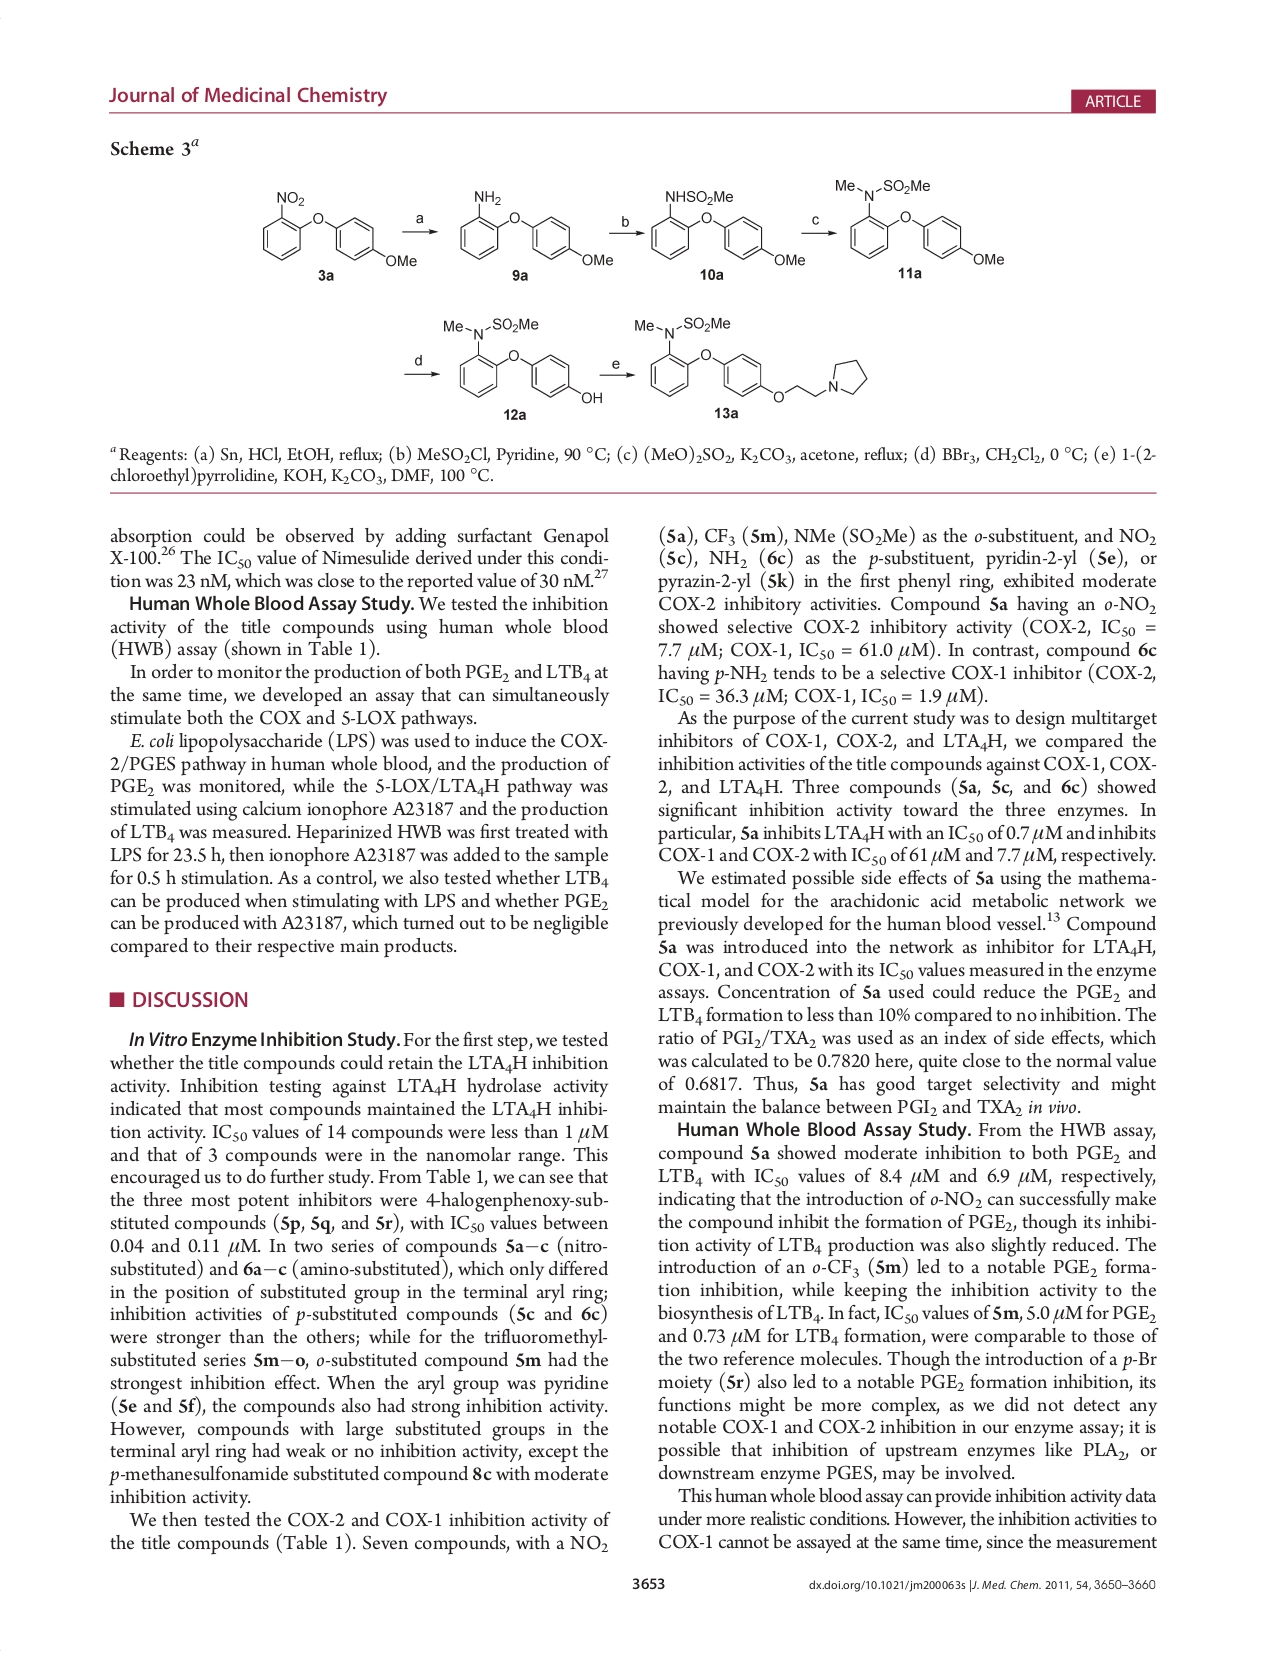exist_molecular: (633, 313, 868, 403), (832, 172, 1004, 270), (440, 311, 604, 407), (645, 185, 807, 270), (259, 185, 418, 270), (453, 186, 616, 269)
